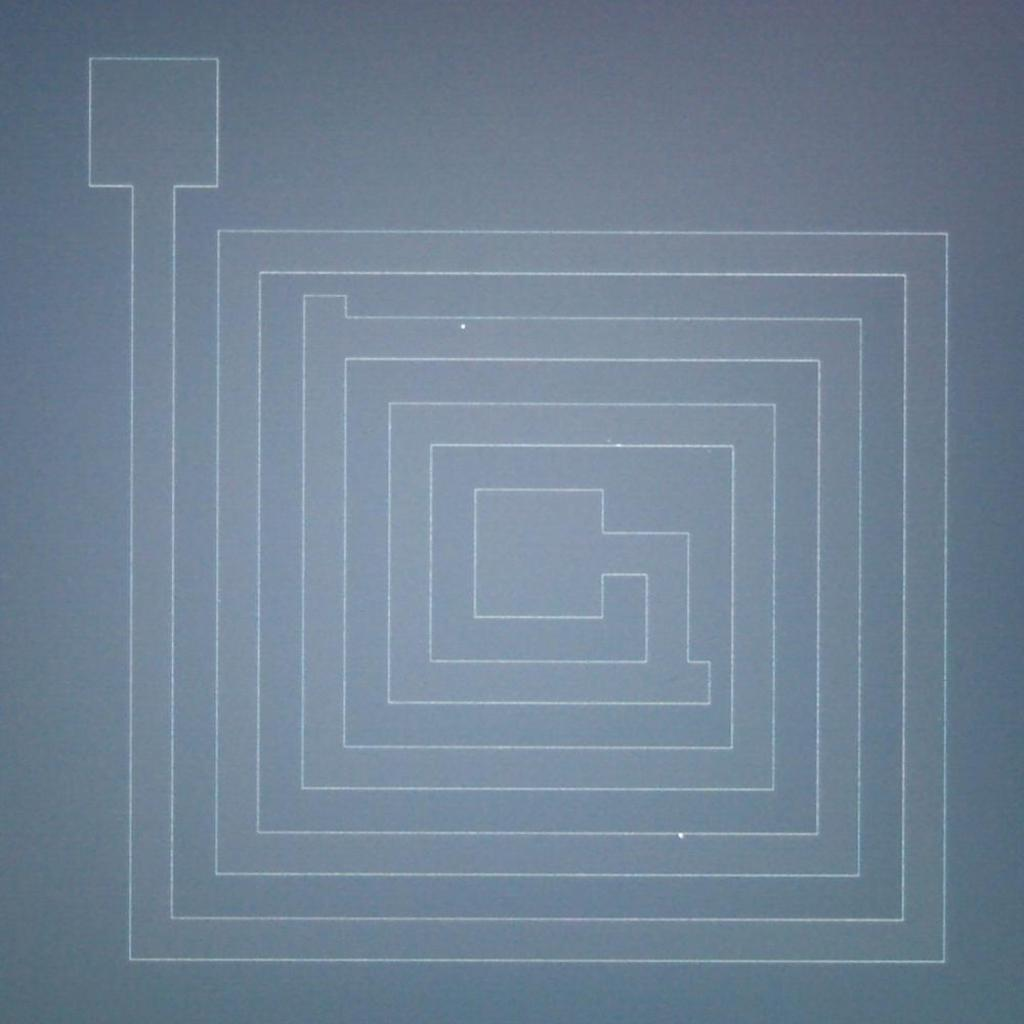dot: (461, 324, 465, 328)
